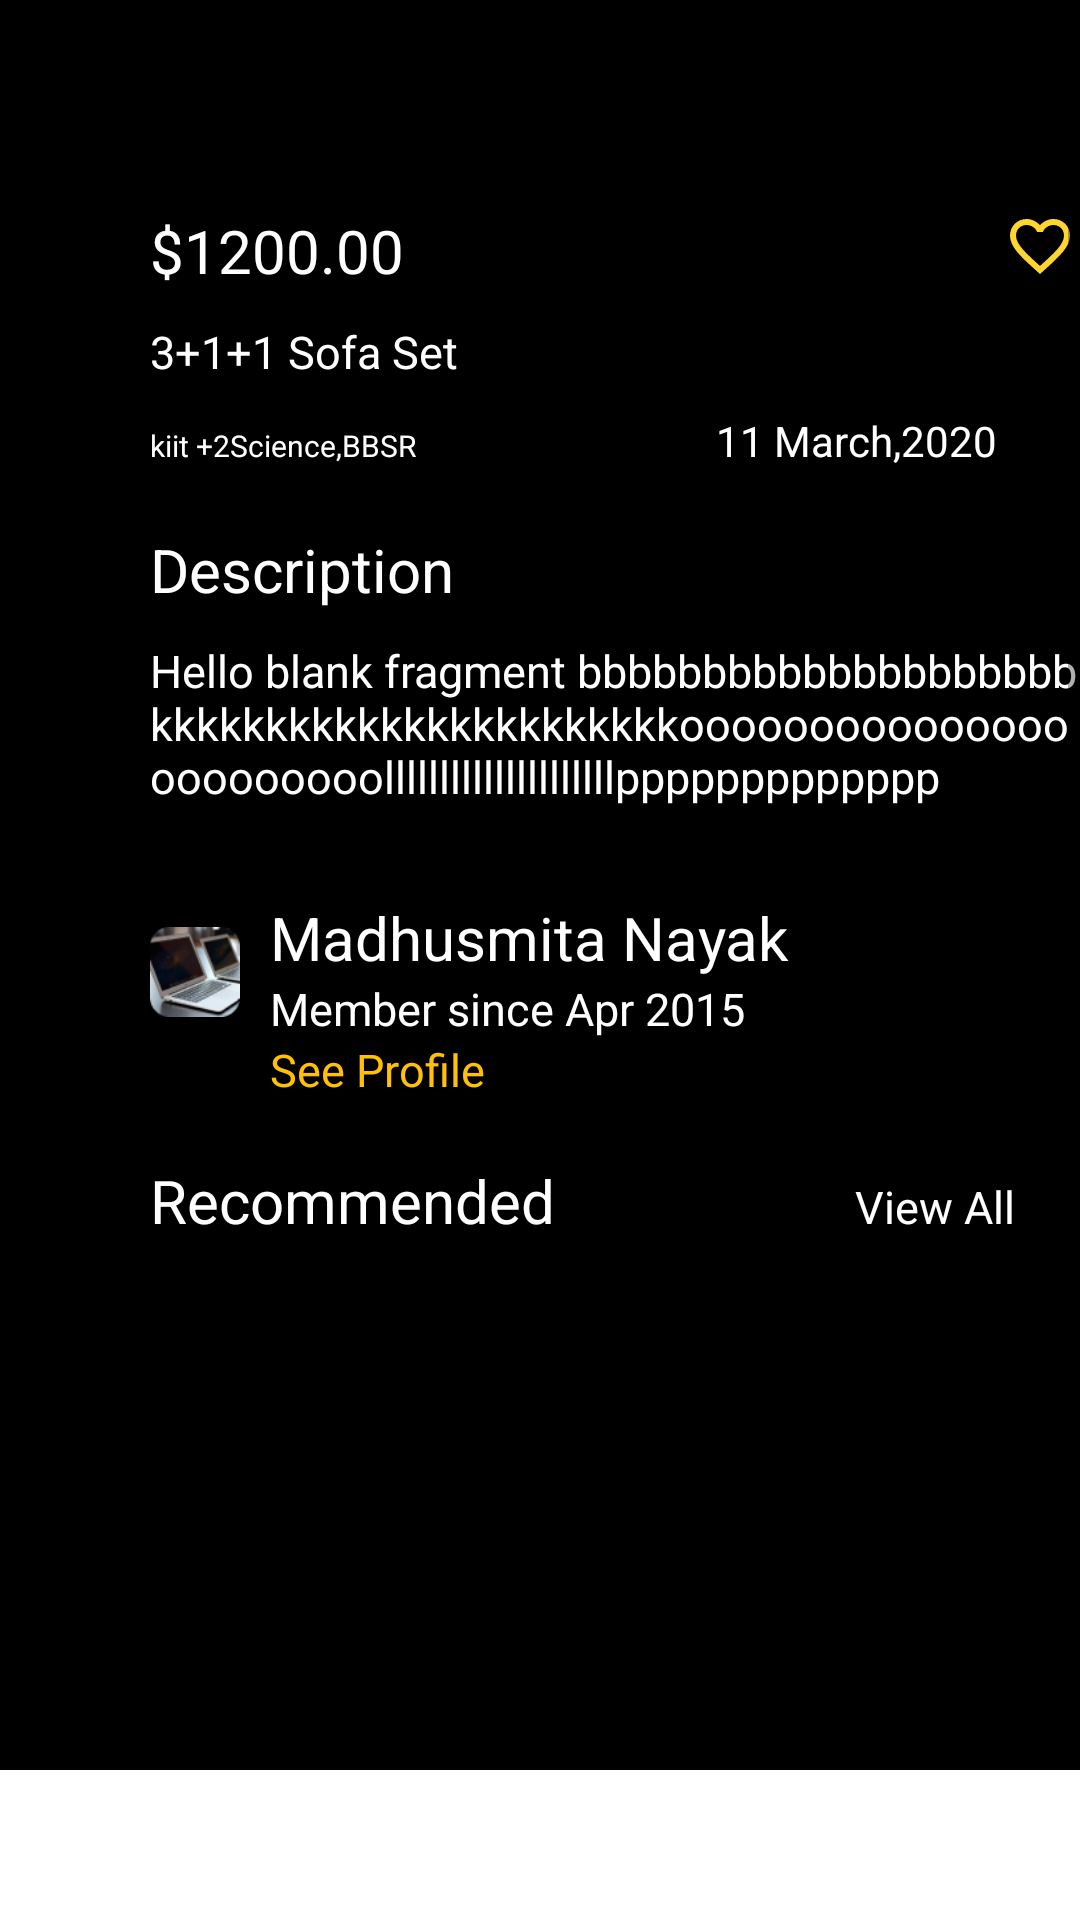

Point at icon controls on the screen. Image size 1080w x 1920h, points as (x=x, y=y).
favorite border: (x=1040, y=246)
lappy: (x=195, y=972)
